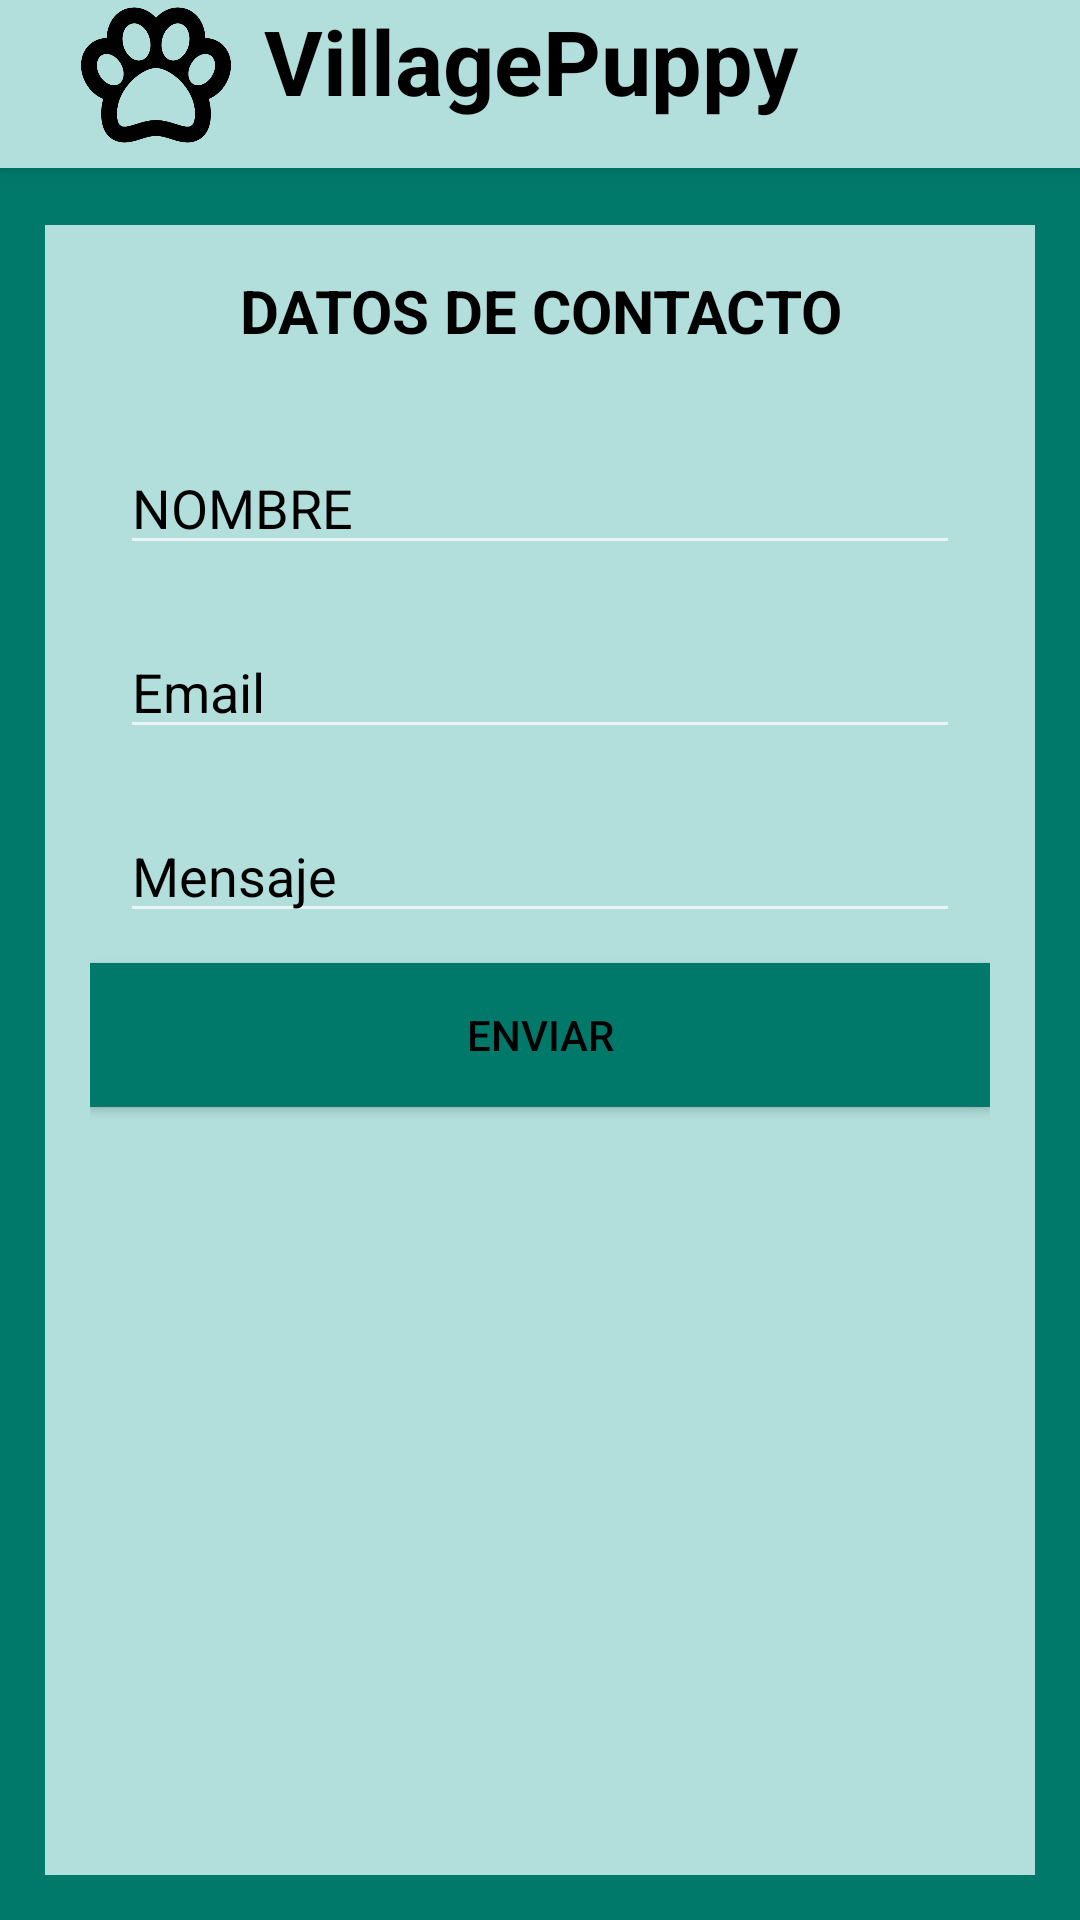

Icons on this 1080w x 1920h Android screen, each with its box as (x1, y1, x2, y2):
huella: (81, 7, 231, 143)
